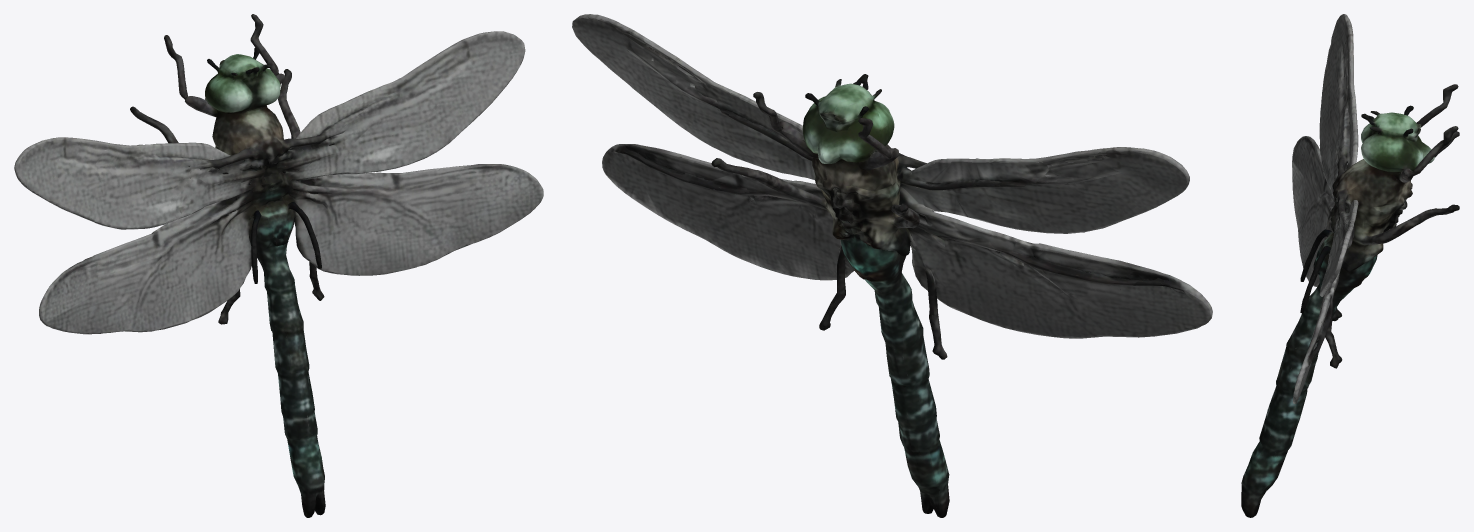
File: dragonfly-perch-v21-lod.glb
The picture shows the model from 3 angles, left to right: view 1: azimuth 30°, elevation 25°; view 2: azimuth 150°, elevation 25°; view 3: azimuth 270°, elevation 25°; orthographic projection. The views are drawn at different scales.
Visible parts, largest first — view 1: geometry_0; view 2: geometry_0; view 3: geometry_0.
Part boxes in pixels (left/top/right/bottom): geometry_0: left=14, top=14, right=543, bottom=517; geometry_0: left=572, top=14, right=1212, bottom=517; geometry_0: left=1241, top=14, right=1459, bottom=517.
Bounding box in the file's own units: 0.1098 × 0.0857 × 0.0414.
Materials: 1 (1 with a texture image).
